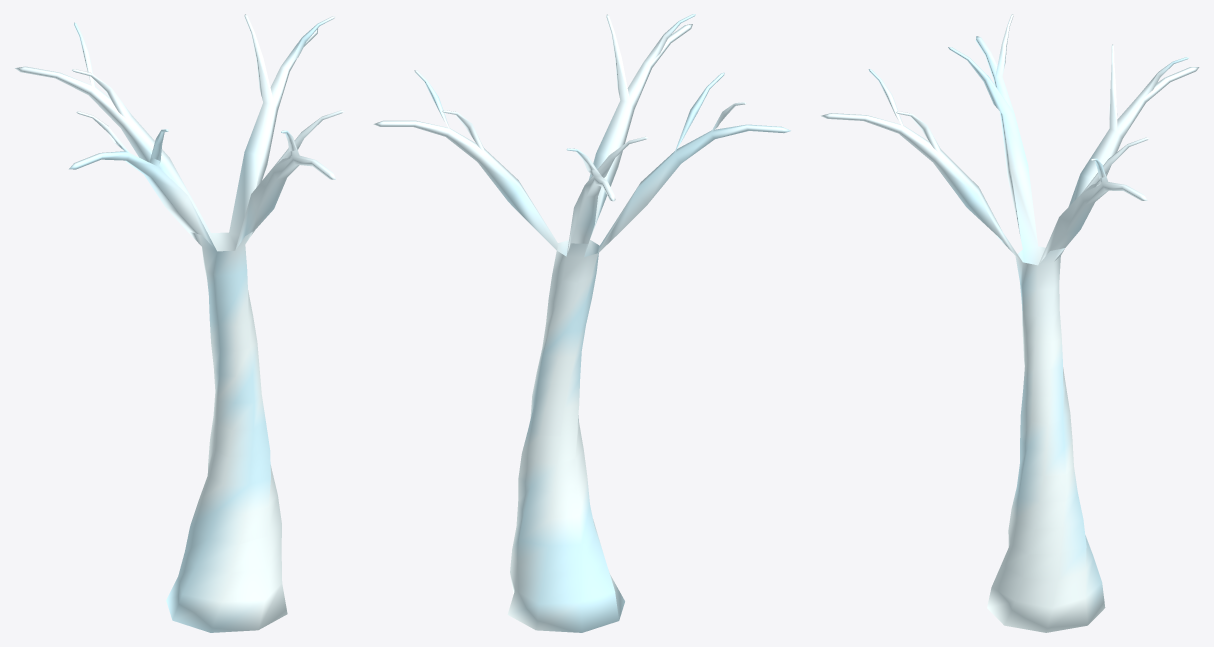
Rendered from Spiritwood_Tree.glb.
3 views of the same model, side by side, from view 1: azimuth 30°, elevation 25°; view 2: azimuth 150°, elevation 25°; view 3: azimuth 270°, elevation 25° (orthographic). The views are drawn at different scales.
Parts seen in each view (by area): view 1: Spiritwood_Tree; view 2: Spiritwood_Tree; view 3: Spiritwood_Tree.
Part boxes in pixels (<box>): Spiritwood_Tree: <box>15,14,344,632</box>; Spiritwood_Tree: <box>373,14,790,632</box>; Spiritwood_Tree: <box>821,14,1199,632</box>.
Size of the model in its own units: 2.5 by 3.89 by 2.57.
